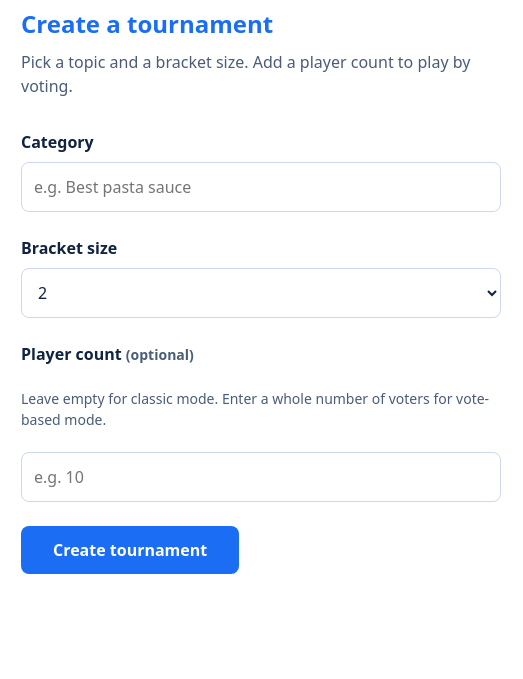
CreateScreen player-count validation › creates a classic tournament when player count is left empty
In the field labelled "Category": (261,187) [21, 162, 501, 212], type "Best movie"
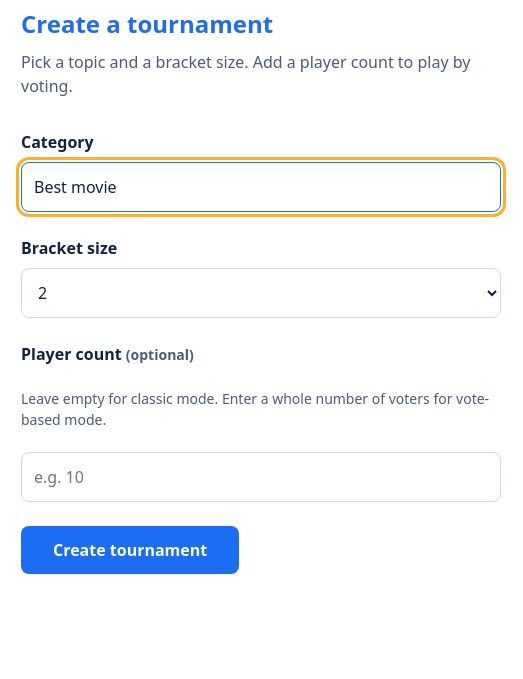
Click the button "Create tournament": (130,550) [21, 526, 239, 574]
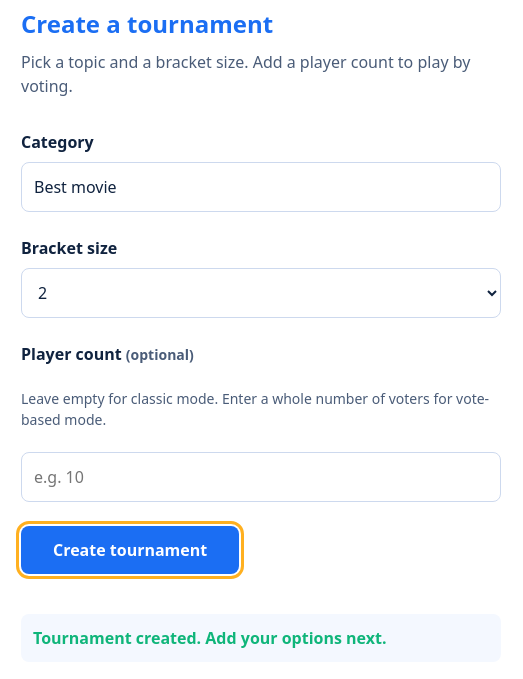
Now the message shows "Tournament created", box [33, 627, 386, 649]
